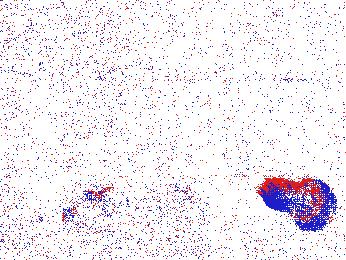flame jellyfish: (261, 178, 335, 231), (61, 189, 114, 238), (99, 187, 130, 228)
